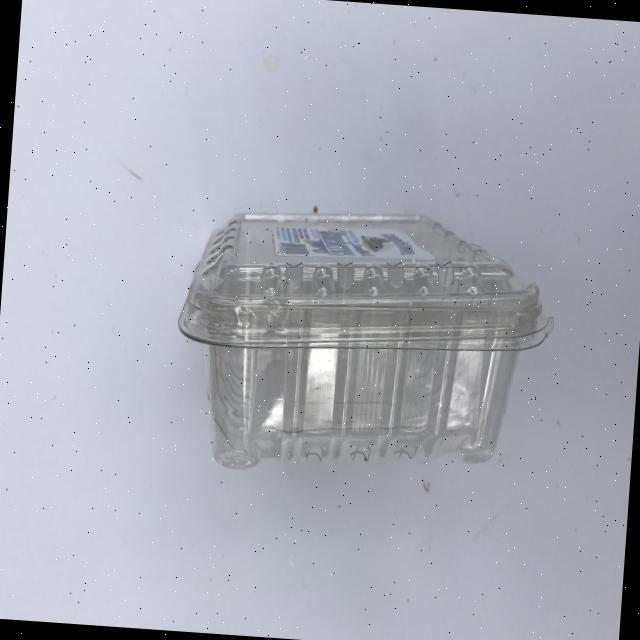plastic: (168, 196, 560, 490)
